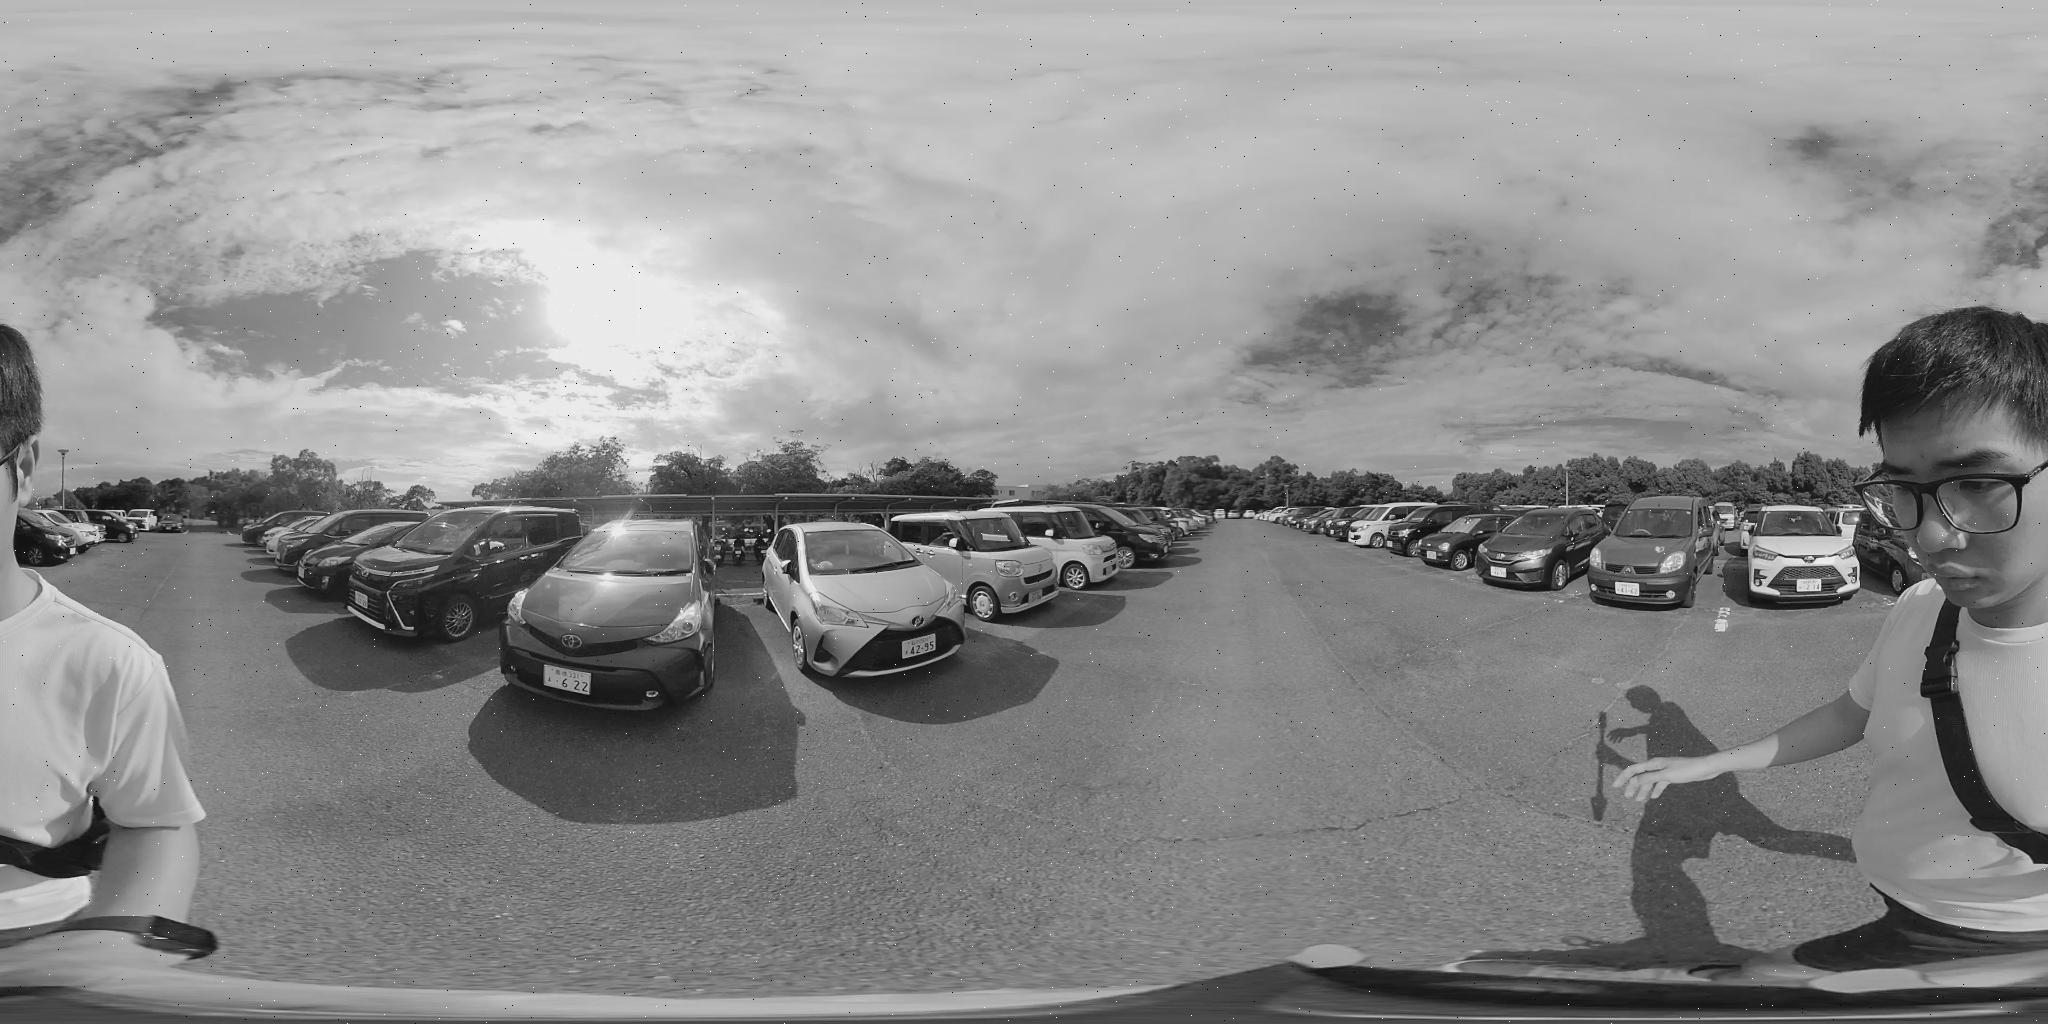car: (495, 521, 708, 708), (336, 508, 592, 640), (765, 520, 977, 677), (889, 505, 1100, 606), (1590, 499, 1723, 610), (1735, 504, 1865, 607), (981, 505, 1132, 586), (289, 509, 434, 592), (1472, 507, 1610, 590), (1405, 508, 1520, 568), (1088, 509, 1182, 562), (1378, 508, 1462, 555), (21, 512, 102, 560), (1345, 508, 1438, 550), (86, 513, 141, 543), (154, 515, 188, 533)
